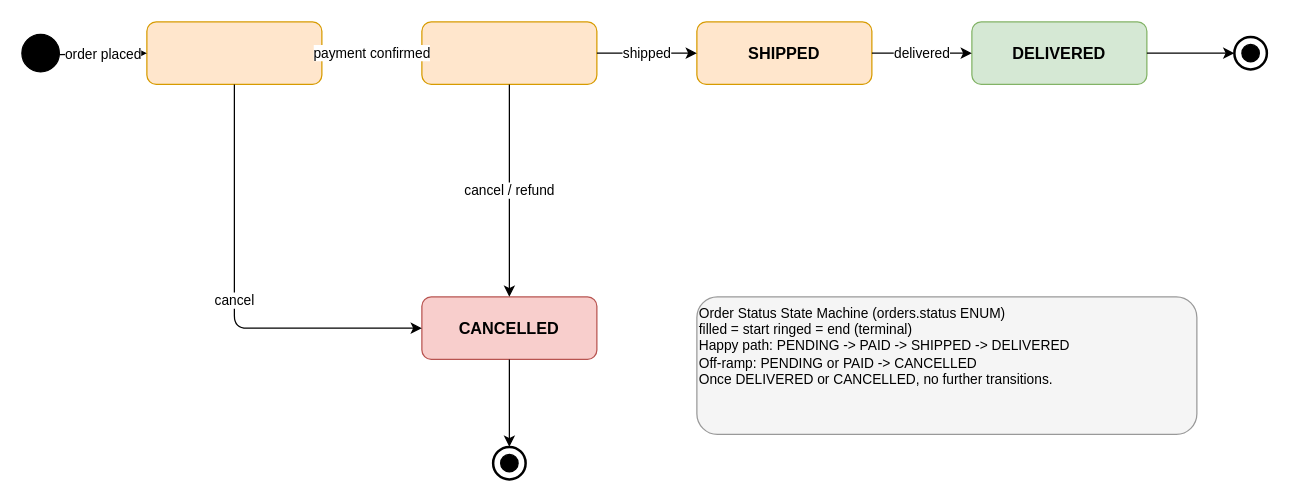
The diagram is 1290 pixels wide and 503 high, and some of its shapes have lost their labels. The centre of each missing label's shape, as x and y in pixels:
PAID: (509,52)
PENDING: (234,52)
